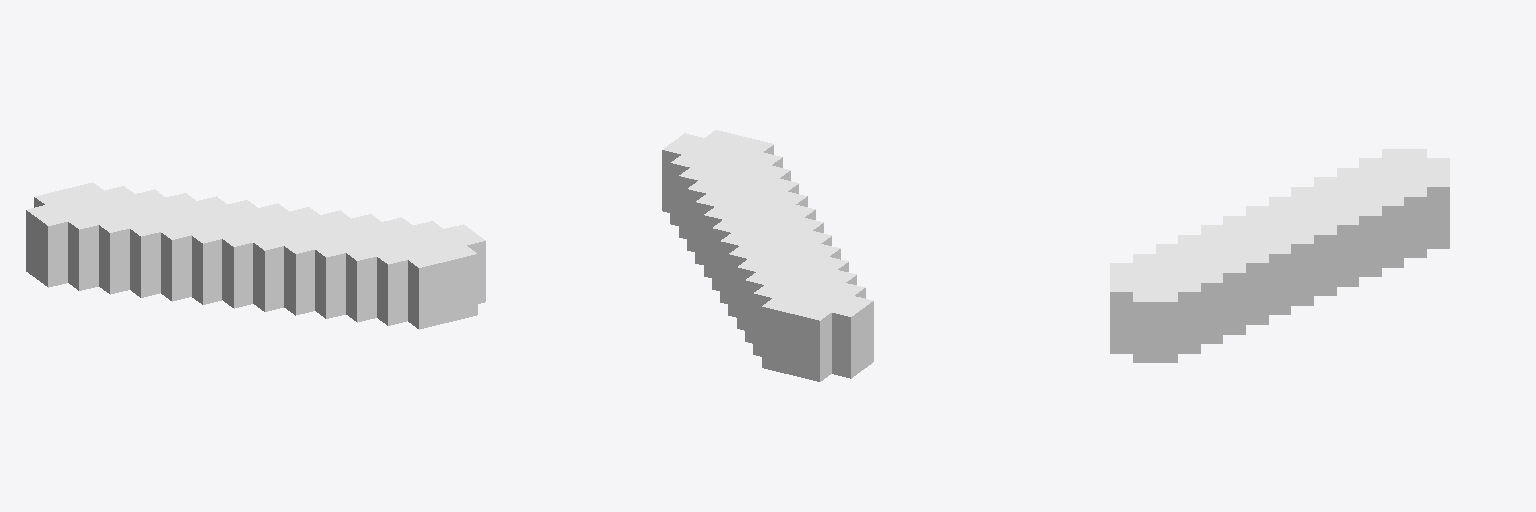
The model's file is Eruption-38.obj.
3 renders of one model, left to right at view 1: azimuth 30°, elevation 25°; view 2: azimuth 150°, elevation 25°; view 3: azimuth 270°, elevation 25°, orthographic.
Parts seen in each view (by area): view 1: object 1; view 2: object 1; view 3: object 1.
Boxes of the visible parts, box(x1,y1,x2,y2) form: object 1: box(26, 182, 485, 329); object 1: box(662, 130, 873, 381); object 1: box(1110, 149, 1449, 362).
Bounding box in the file's own units: 1.6 × 0.3 × 1.5.